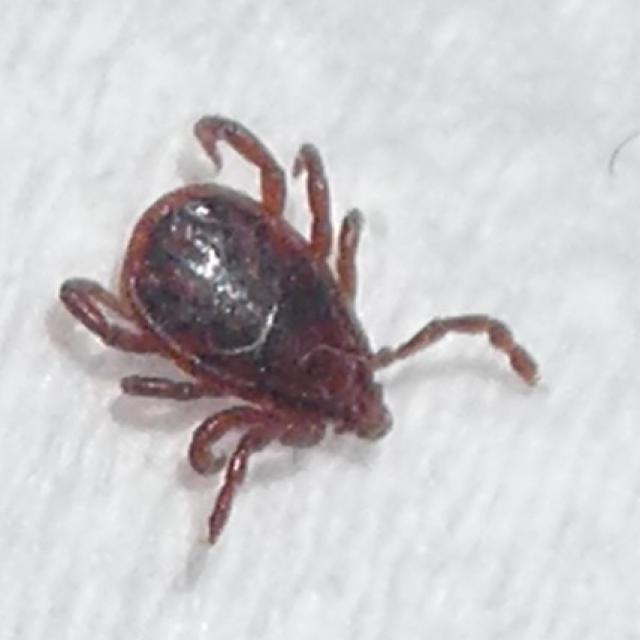Rhipicephalus Sanguineus-M: (57, 116, 540, 549)
